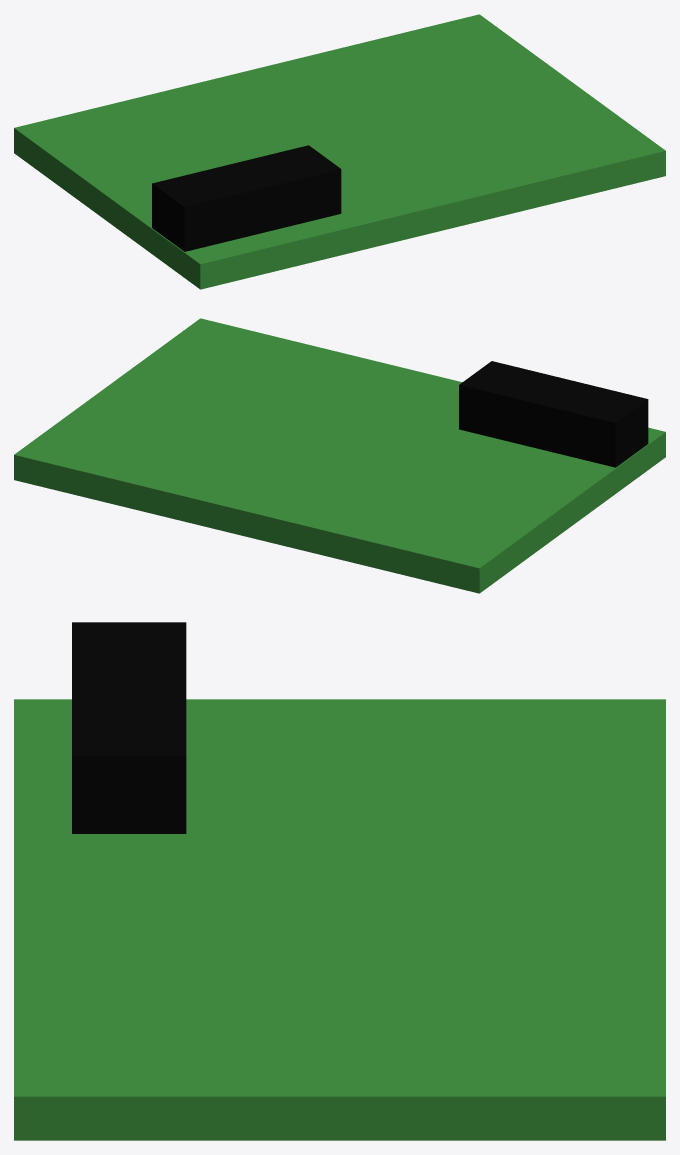
The model's file is tag.fbx.
3 renders of one model, top to bottom at view 1: azimuth 30°, elevation 25°; view 2: azimuth 150°, elevation 25°; view 3: azimuth 270°, elevation 25°, orthographic. The views are drawn at different scales.
Visible parts, largest first — view 1: Cube.001; view 2: Cube.001; view 3: Cube.001.
Part boxes in pixels (left/top/right/bottom): Cube.001: left=14, top=14, right=665, bottom=289; Cube.001: left=14, top=318, right=665, bottom=593; Cube.001: left=14, top=622, right=665, bottom=1140.
Size of the model in its own units: 57.65 by 8.28 by 40.
